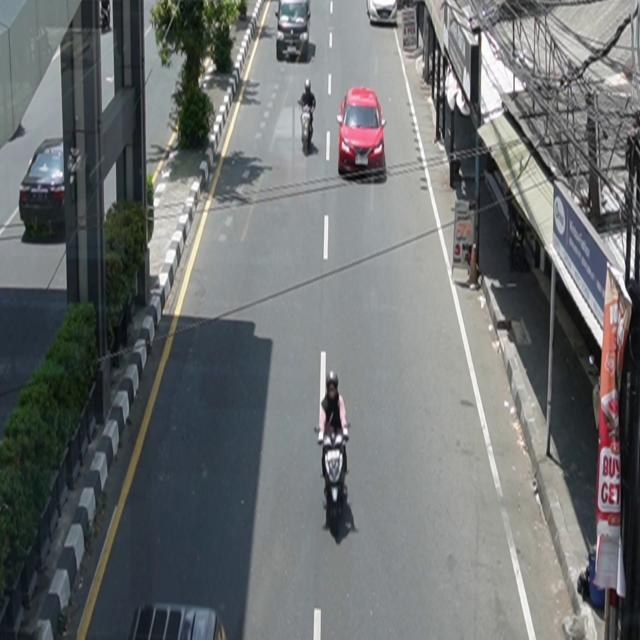car: (19, 137, 76, 235), (338, 87, 388, 176), (276, 1, 312, 62), (366, 1, 398, 26)
